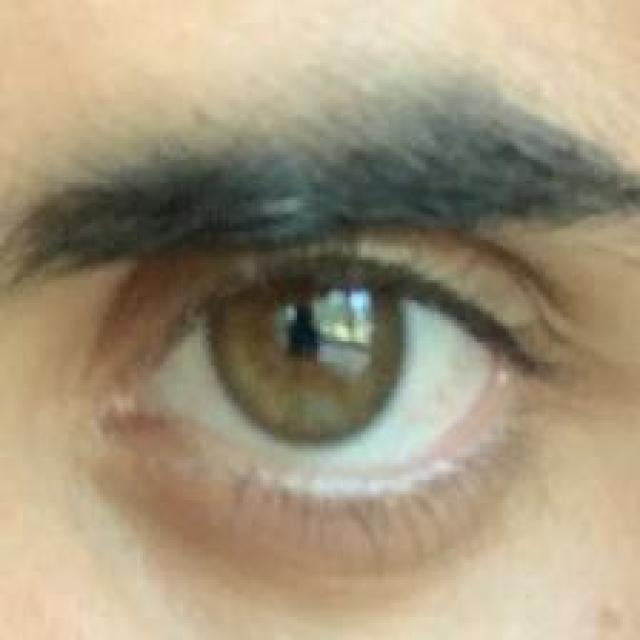Normal: (0, 98, 634, 601)
